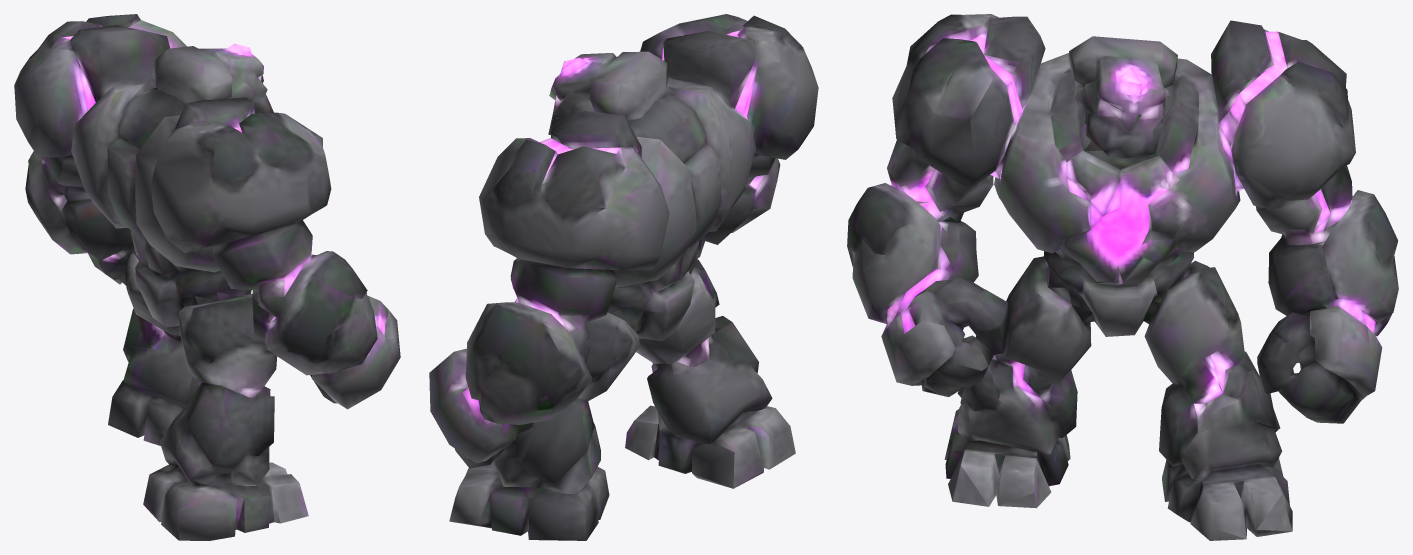
File: enemy-golem-brute.glb
3 views of the same model, side by side, from view 1: azimuth 30°, elevation 25°; view 2: azimuth 150°, elevation 25°; view 3: azimuth 270°, elevation 25° (orthographic). The views are drawn at different scales.
Parts seen in each view (by area): view 1: enemy-golem-brute-body; view 2: enemy-golem-brute-body; view 3: enemy-golem-brute-body.
Boxes of the visible parts, <box> form: enemy-golem-brute-body: <box>14,14,400,540</box>; enemy-golem-brute-body: <box>429,14,818,540</box>; enemy-golem-brute-body: <box>847,14,1398,540</box>.
Bounding box in the file's own units: 0.4912 × 0.8922 × 1.
1 material, 1 textured.
